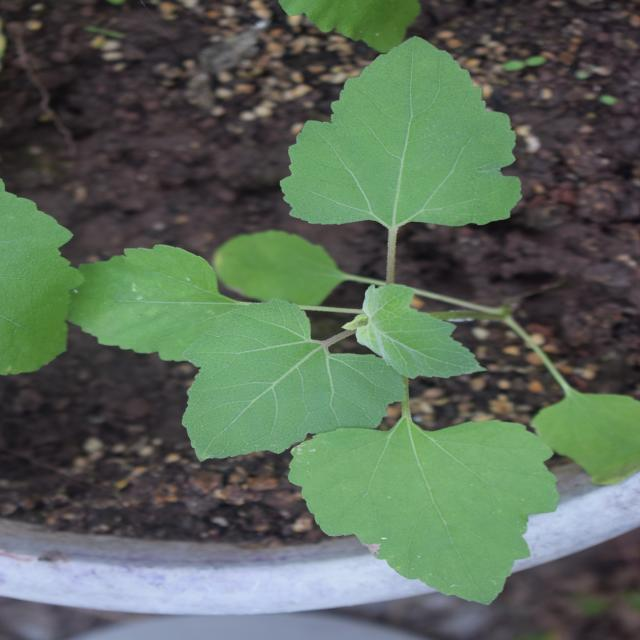cocklebur: (41, 138, 581, 563)
